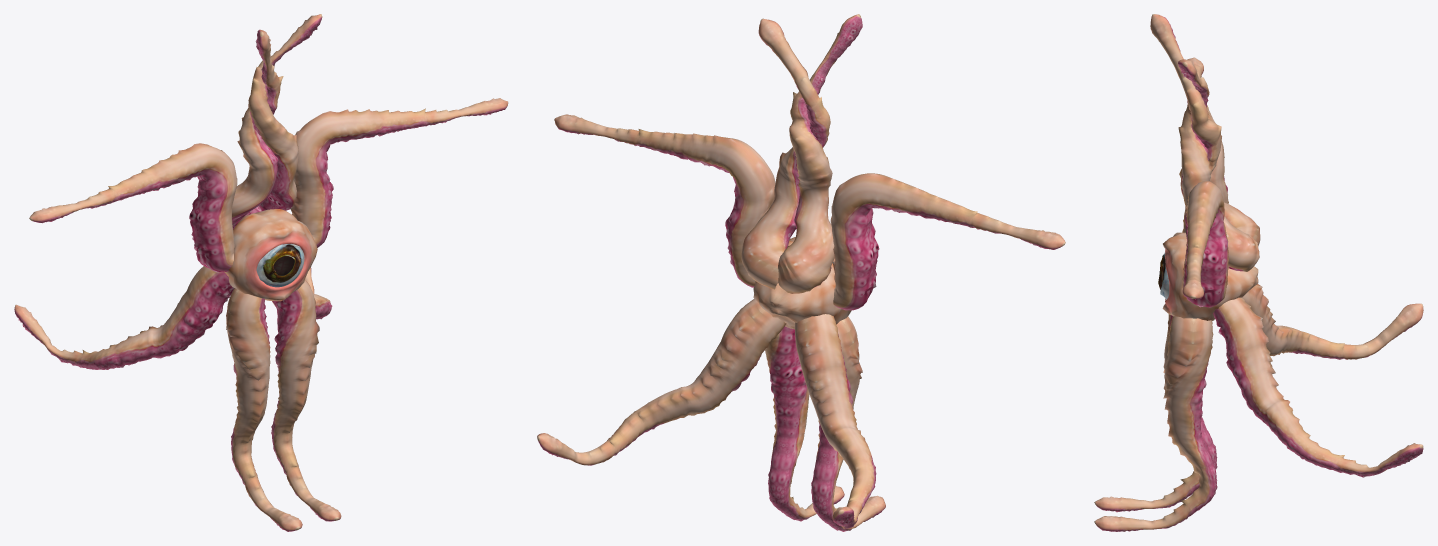
File: tentacleye.glb
3 views of the same model, side by side, from view 1: azimuth 30°, elevation 25°; view 2: azimuth 150°, elevation 25°; view 3: azimuth 270°, elevation 25° (orthographic). The views are drawn at different scales.
Parts seen in each view (by area): view 1: tentacleye; view 2: tentacleye; view 3: tentacleye.
Boxes of the visible parts, x1,y1,x2,y2 form: tentacleye: (14,14,508,531); tentacleye: (537,14,1065,531); tentacleye: (1094,14,1423,531).
Bounding box in the file's own units: 1 × 0.9686 × 0.5848.
Materials: 1 (1 with a texture image).
